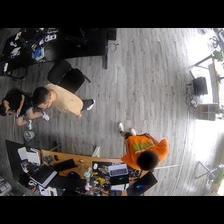normal: (113, 122, 167, 172), (33, 86, 104, 119)
